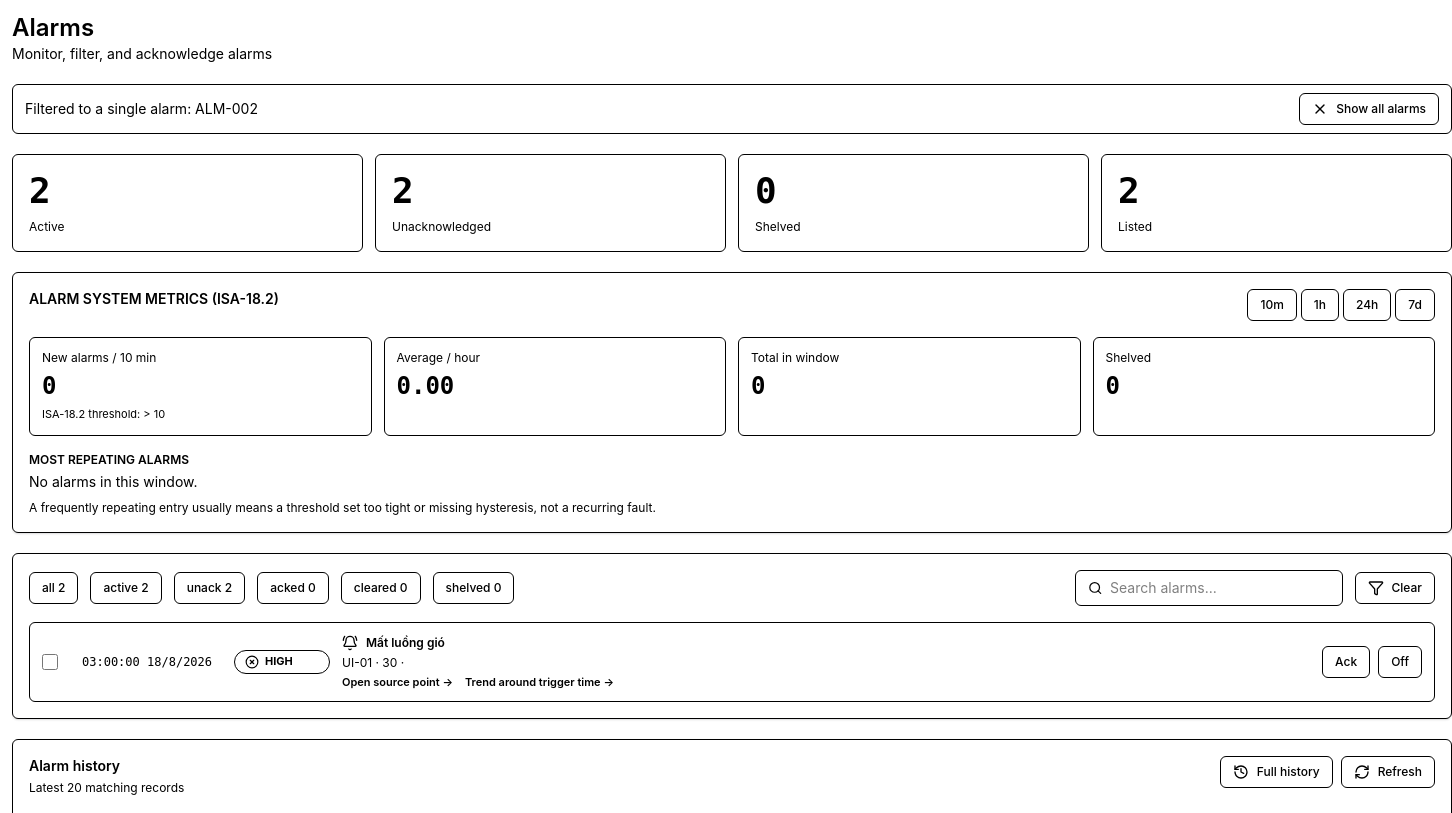
it: F-UX-02 — deep link ?alarm= phải lọc thật › nói rõ đang lọc, và cho đường thoát về danh sách đầy đủ
Expected: the message shows "ALM-002", [25,100,258,117]
Click the button "Show all alarms" at (1369, 109), box [1299,93,1439,125]
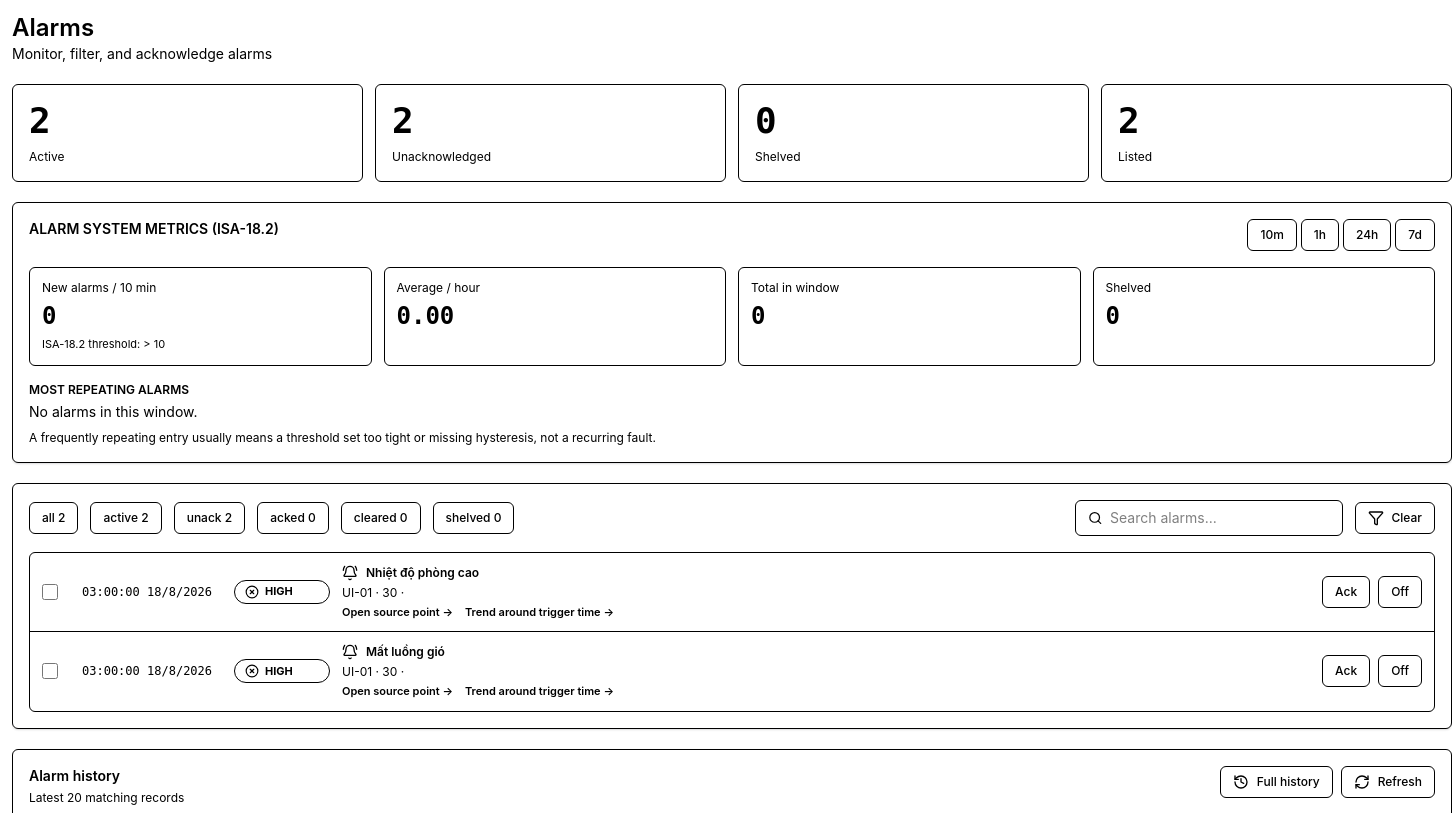
Result: the text "Nhiệt độ phòng cao" is shown at [366,564,479,580]
Result: the message "Filtered to a single alarm: ALM-002 Show all alarms" is gone
